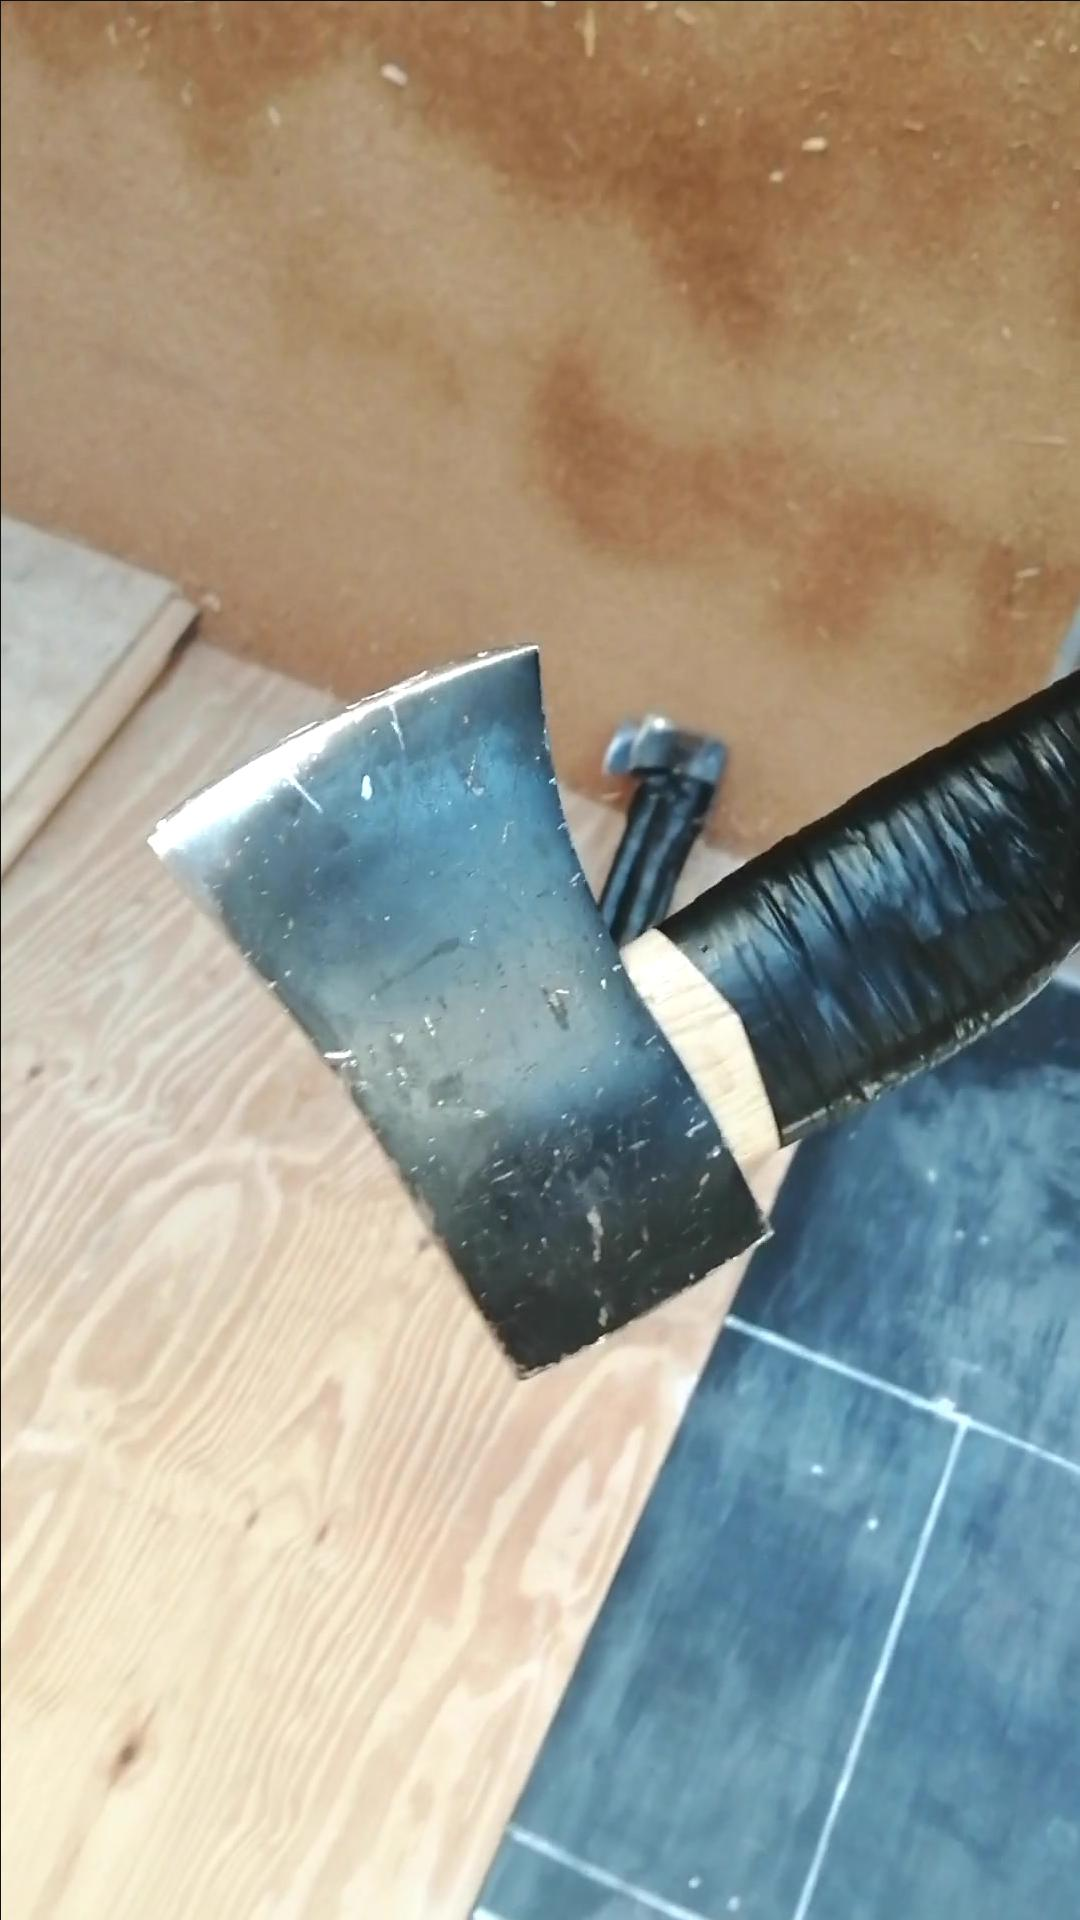Hand Axe: (141, 630, 771, 1379), (620, 713, 732, 785)
